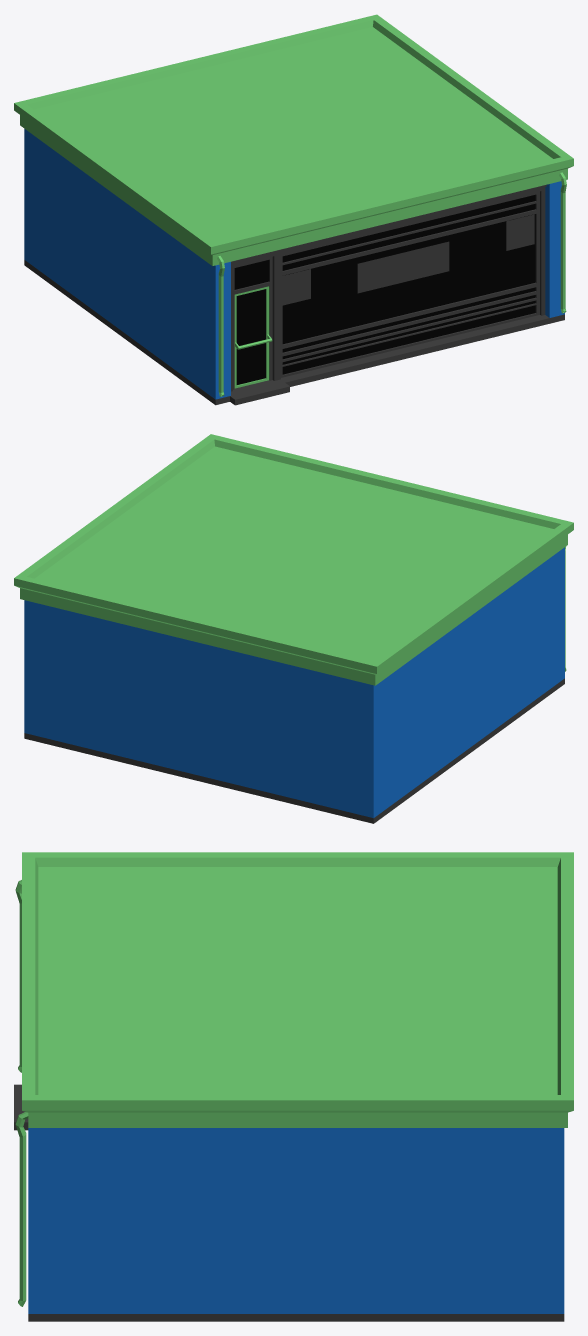
Rendered from SM_shop_cs.fbx.
3 views of the same model, one above another, from view 1: azimuth 30°, elevation 25°; view 2: azimuth 150°, elevation 25°; view 3: azimuth 270°, elevation 25° (orthographic). The views are drawn at different scales.
Visible parts, largest first — view 1: Cloner, Cube_14, Cube_4; view 2: Cloner, Cube_14; view 3: Cloner, Cube_14.
Boxes of the visible parts, x1,y1,x2,y2 form: Cloner: (14,14,573,396); Cube_14: (24,129,564,405); Cube_4: (234,286,272,388); Cloner: (14,434,573,685); Cube_14: (24,547,564,823); Cloner: (15,852,573,1306); Cube_14: (14,1084,564,1321).
Bounding box in the file's own units: 869 × 369 × 829.
